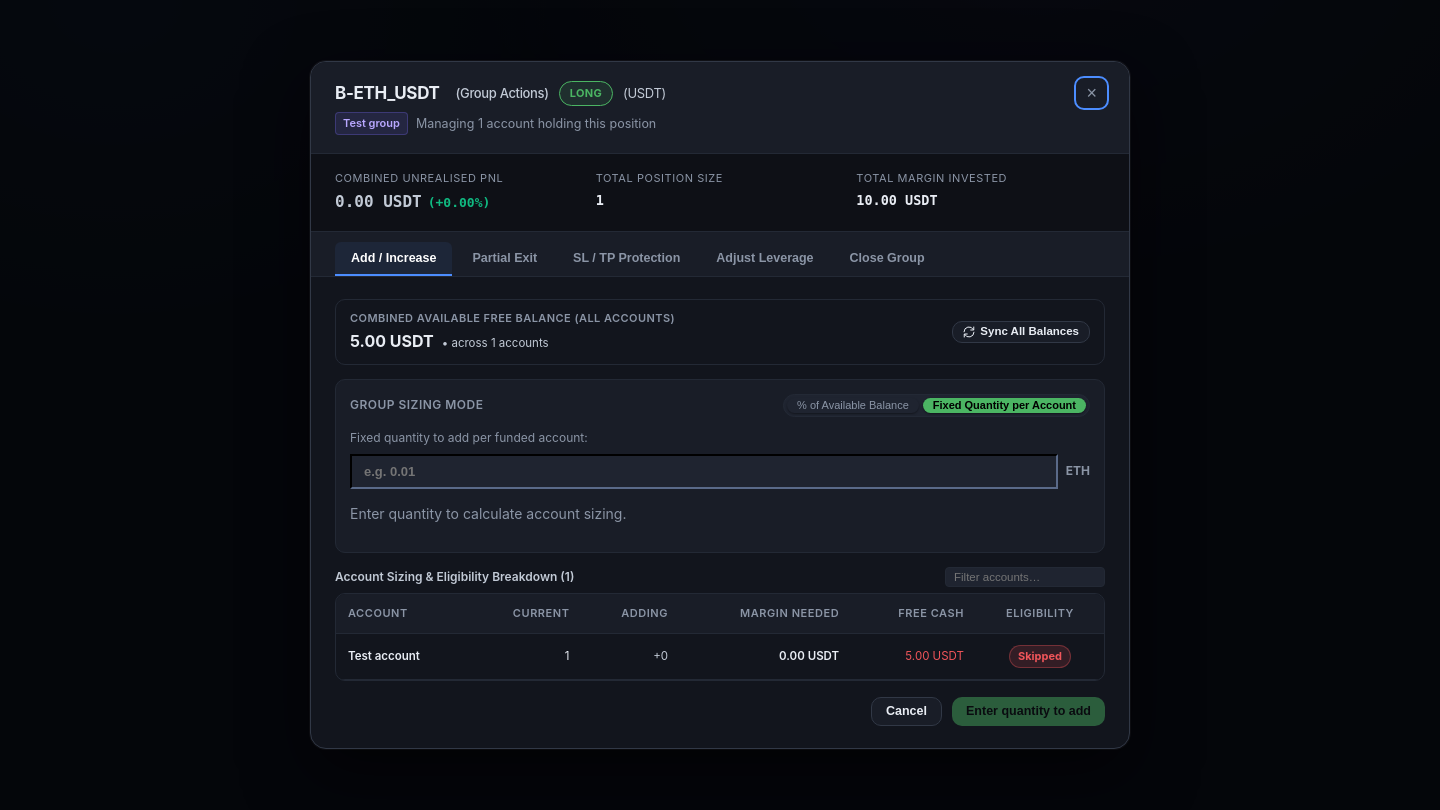
Test: leverage controls › disables leverage management when the exchange limits are unavailable
Click the button "Adjust Leverage" at x=765, y=259, box [700,242,830,276]
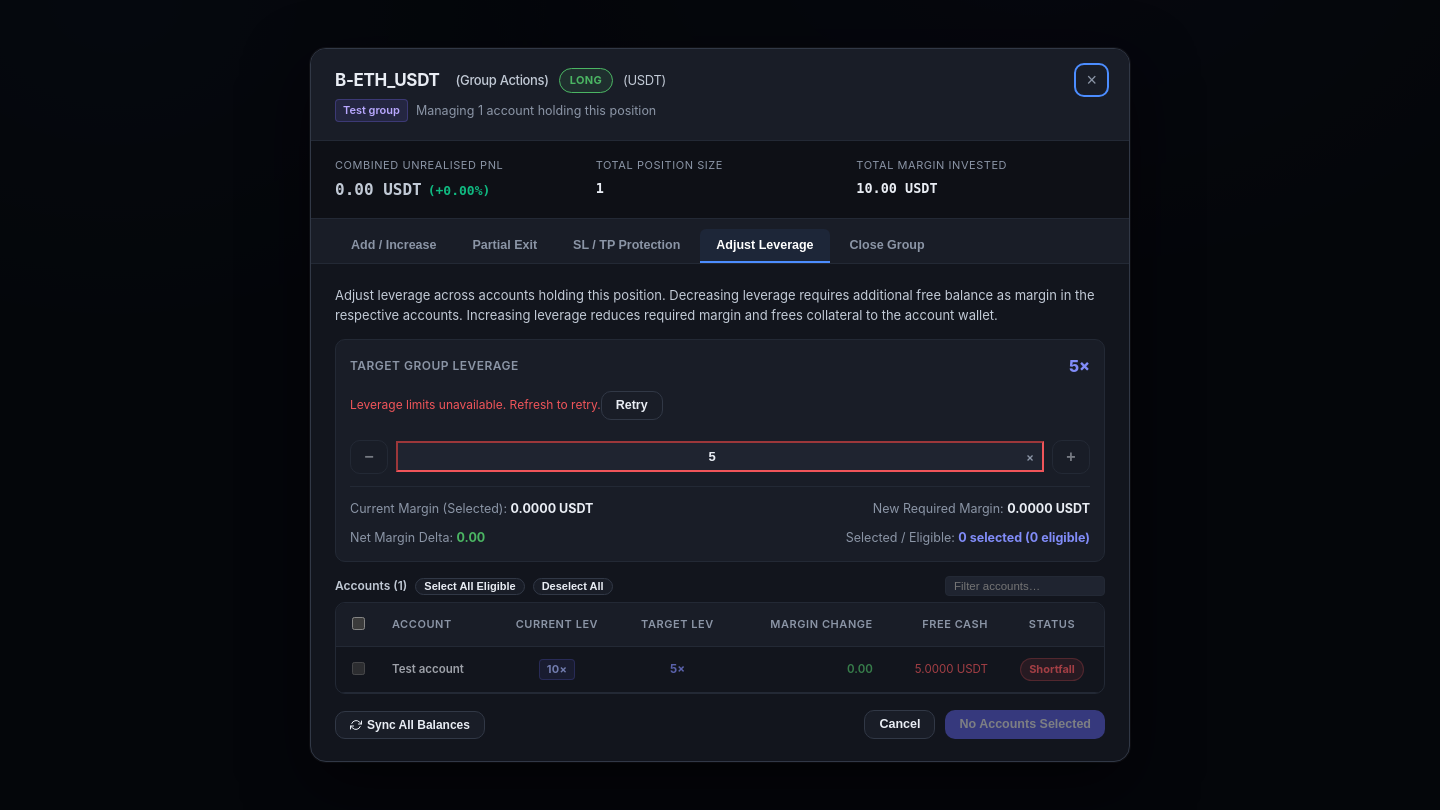
Expected: the text "Leverage limits unavailable" is shown, [350,397,601,412]
Expected: the button "No Accounts Selected" is disabled, [946,710,1105,739]
